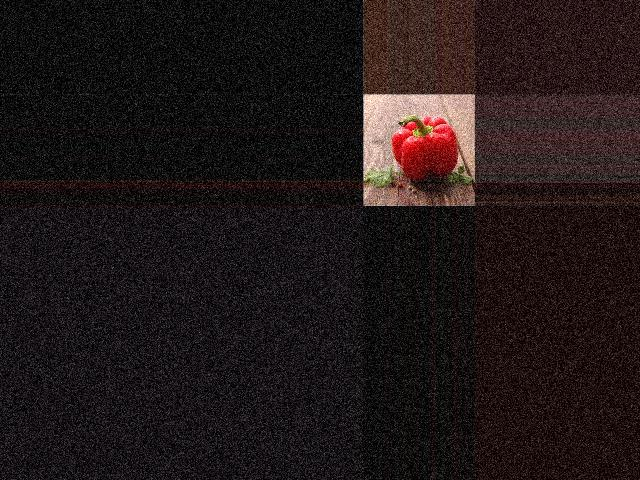bell_pepper: (388, 110, 462, 182)
